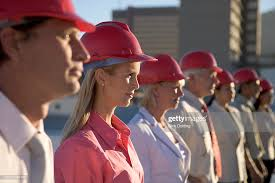Person_wearing_helmet: (78, 21, 148, 84)
